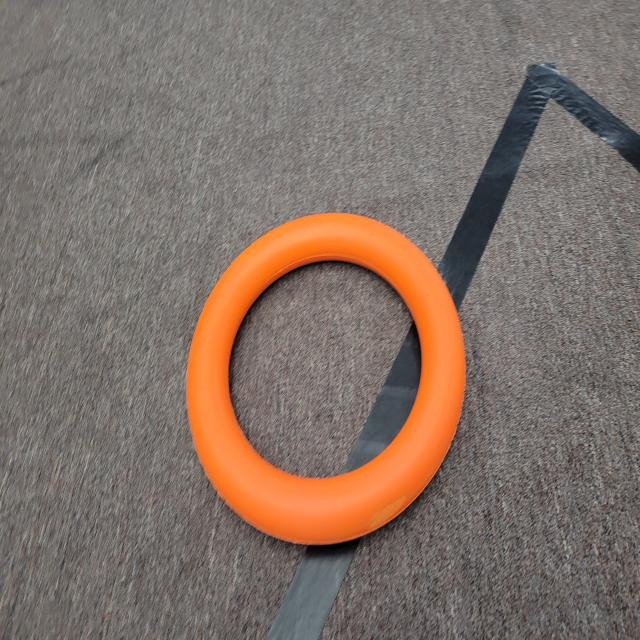note: (171, 207, 471, 560)
